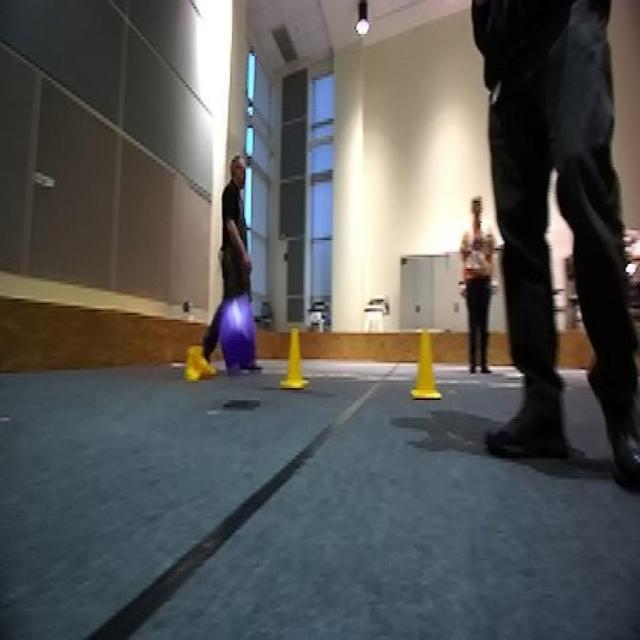frc_cone: (404, 328, 448, 398), (278, 328, 311, 386), (186, 351, 211, 381)
frc_cube: (217, 301, 259, 373)
